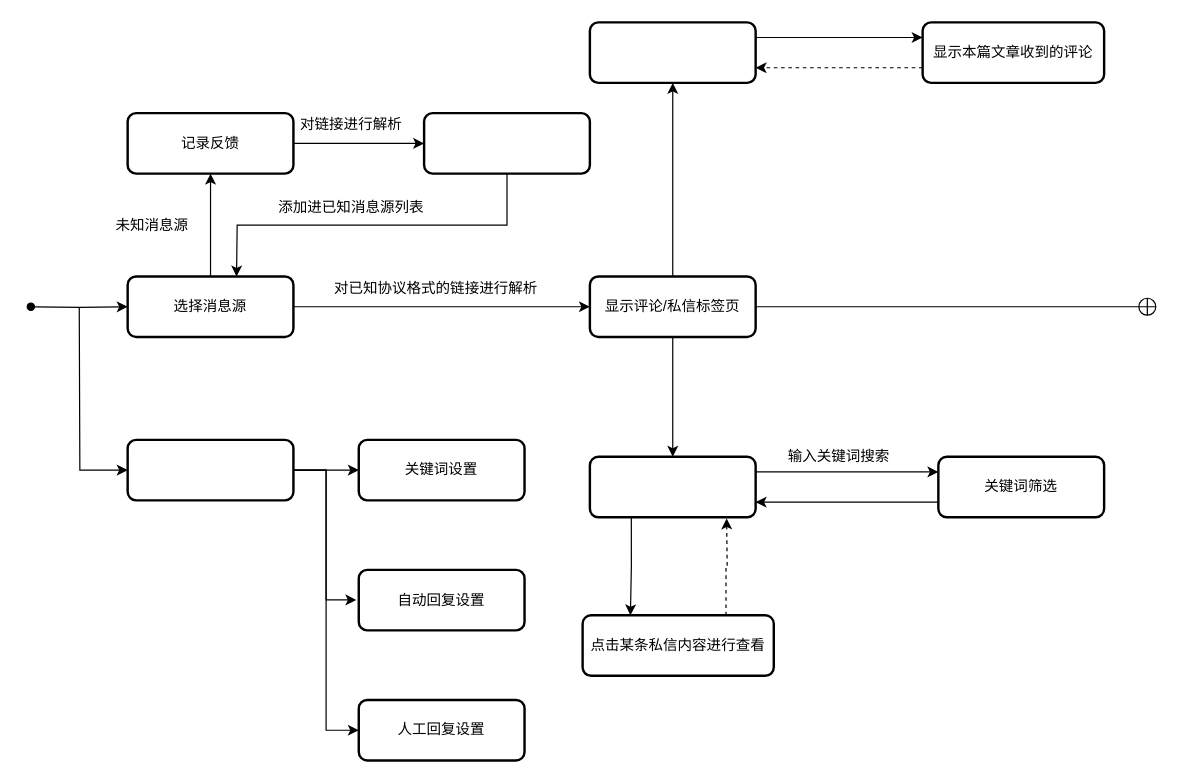
Some shapes in this 1188 by 782 pixel diagram are drawn without their labels. The centre of each missing label's shape, as x and y in pixels:
"显示文章标题列表" belongs at point 672,52.
"显示私信列表" belongs at point 672,486.
"消息回复设置" belongs at point 210,469.
"生成新的消息源选项" belongs at point 506,142.
